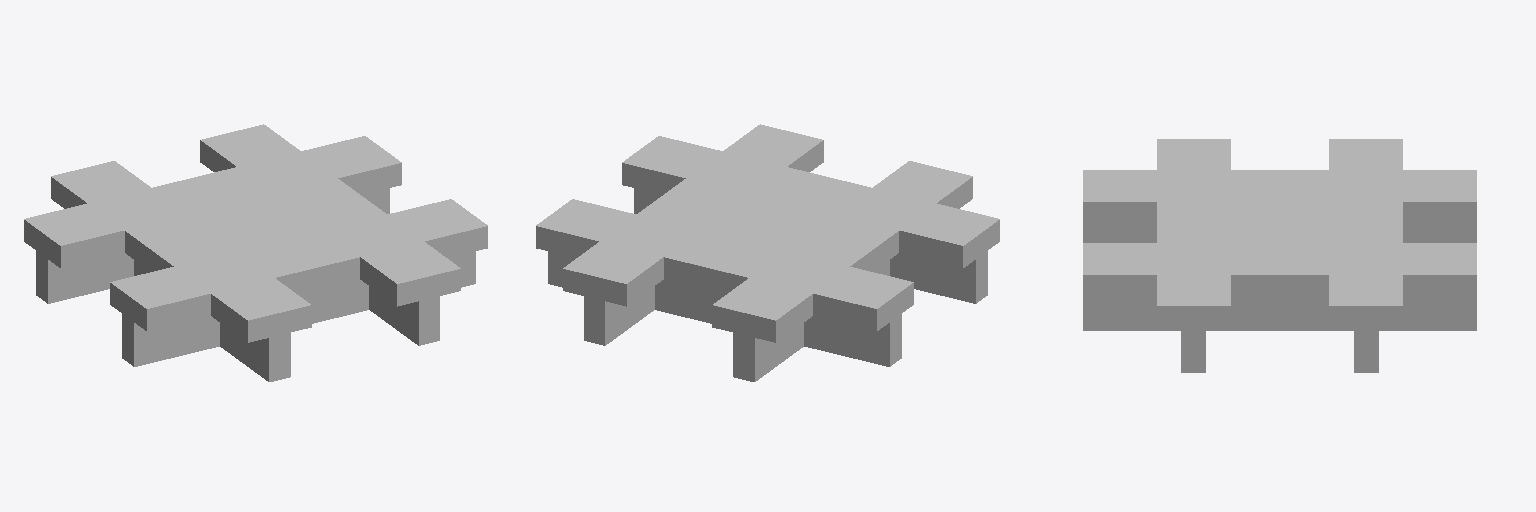
The model's file is rail.obj.
3 renders of one model, left to right at view 1: azimuth 30°, elevation 25°; view 2: azimuth 150°, elevation 25°; view 3: azimuth 270°, elevation 25°, orthographic.
Parts seen in each view (by area): view 1: backZPos, backZNegNeg, backXNegPos, backXPosPos, backZPosNeg, middleBack, barXNeg, backZNegPos, backZPosPos, barZPosNeg, barZNegNeg, backZNeg (+11 smaller); view 2: backZNeg, backZPosNeg, backXNegNeg, backXPosNeg, backZNegNeg, middleBack, barXNeg, backZPosPos, backZNegPos, barZNegNeg, barZPosNeg, backZPos (+11 smaller); view 3: barXPos, middleBack, backXNegPos, backXNegNeg, backXPosPos, backXPosNeg, backZPosPos, backZNegPos, barXNeg, backZPos, backZNeg, barXPosPos (+11 smaller).
Boxes of the visible parts, <box> form: backZPos: <box>239,230,359,294</box>; backZNegNeg: <box>24,203,124,267</box>; backXNegPos: <box>211,278,311,342</box>; backXPosPos: <box>360,242,460,306</box>; backZPosNeg: <box>110,267,210,330</box>; middleBack: <box>190,194,322,250</box>; barXNeg: <box>125,215,236,275</box>; backZNegPos: <box>301,136,401,194</box>; backZPosPos: <box>387,199,487,257</box>; barZPosNeg: <box>122,314,219,366</box>; barZNegNeg: <box>36,251,133,303</box>; backZNeg: <box>153,167,272,214</box>; backZNeg: <box>664,230,784,294</box>; backZPosNeg: <box>899,203,999,267</box>; backXNegNeg: <box>712,278,812,342</box>; backXPosNeg: <box>563,242,663,306</box>; backZNegNeg: <box>813,267,913,330</box>; middleBack: <box>701,194,833,250</box>; barXNeg: <box>787,215,898,275</box>; backZPosPos: <box>622,136,722,194</box>; backZNegPos: <box>536,199,636,257</box>; barZNegNeg: <box>804,314,901,366</box>; barZPosNeg: <box>890,251,987,303</box>; backZPos: <box>751,167,870,214</box>; barXPos: <box>1206,243,1353,330</box>; middleBack: <box>1231,202,1328,242</box>; backXNegPos: <box>1083,170,1156,223</box>; backXNegNeg: <box>1403,170,1476,223</box>; backXPosPos: <box>1083,243,1156,296</box>; backXPosNeg: <box>1403,243,1476,296</box>; backZPosPos: <box>1157,275,1230,327</box>; backZNegPos: <box>1329,275,1402,327</box>; barXNeg: <box>1231,170,1328,201</box>; backZPos: <box>1157,202,1230,242</box>; backZNeg: <box>1329,202,1402,242</box>; barXPosPos: <box>1083,297,1180,330</box>.
Size of the model in its own units: 1 by 0.1875 by 1.